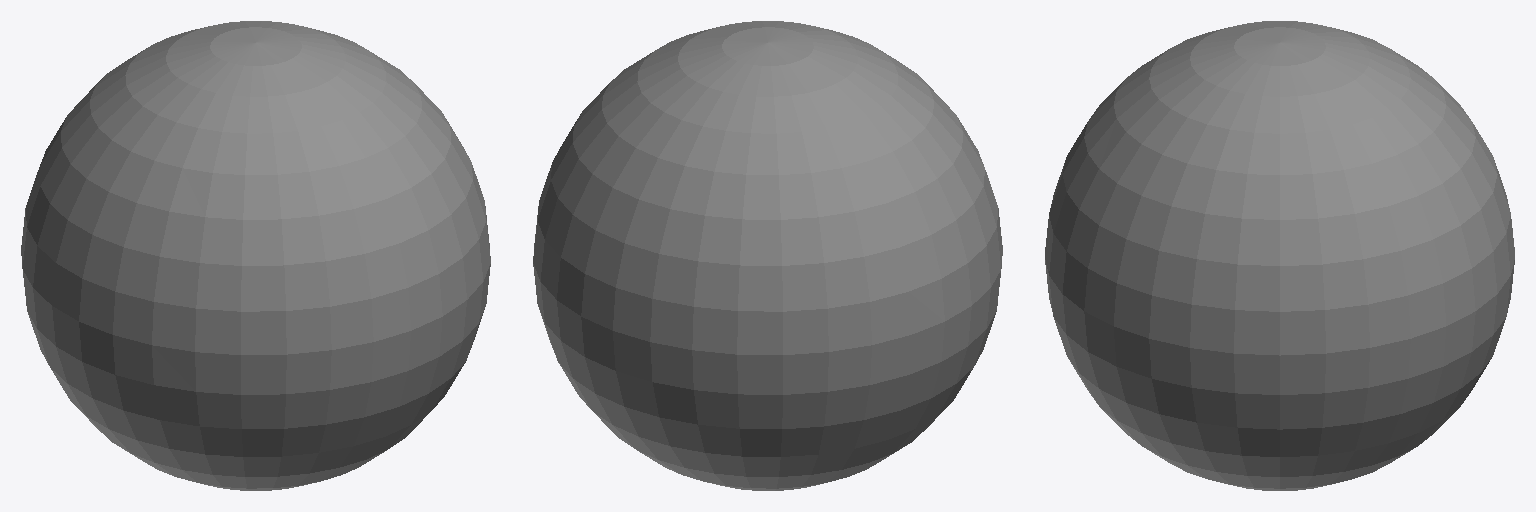
The model's file is Pelota.obj.
3 views of the same model, side by side, from view 1: azimuth 30°, elevation 25°; view 2: azimuth 150°, elevation 25°; view 3: azimuth 270°, elevation 25° (orthographic).
Parts seen in each view (by area): view 1: Sphere001; view 2: Sphere001; view 3: Sphere001.
Part boxes in pixels (left/top/right/bottom): Sphere001: left=21, top=21, right=490, bottom=490; Sphere001: left=533, top=21, right=1002, bottom=490; Sphere001: left=1045, top=21, right=1514, bottom=490.
Size of the model in its own units: 2 by 2 by 2.